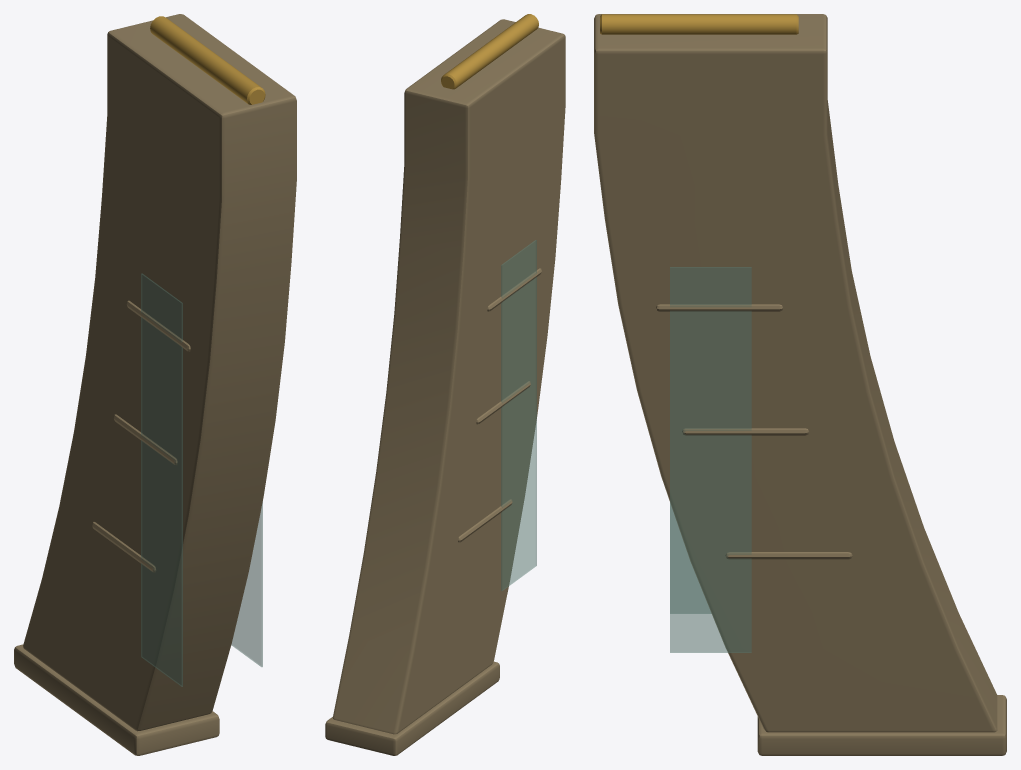
The model's file is mod_corsair_extended_mag.glb.
3 views of the same model, side by side, from view 1: azimuth 30°, elevation 25°; view 2: azimuth 150°, elevation 25°; view 3: azimuth 270°, elevation 25° (orthographic). The views are drawn at different scales.
Parts seen in each view (by area): view 1: Magazine, MagazineWindow, MagazineRound; view 2: Magazine, MagazineWindow, MagazineRound; view 3: Magazine, MagazineWindow, MagazineRound.
Boxes of the visible parts, x1,y1,x2,y2 form: Magazine: (14, 14, 296, 755); MagazineWindow: (141, 273, 262, 686); MagazineRound: (150, 16, 265, 104); Magazine: (325, 19, 565, 755); MagazineWindow: (501, 240, 536, 590); MagazineRound: (441, 14, 538, 89); Magazine: (594, 14, 1006, 755); MagazineWindow: (670, 267, 751, 652); MagazineRound: (600, 14, 798, 34).
Size of the model in its own units: 0.0254 by 0.2045 by 0.106.
